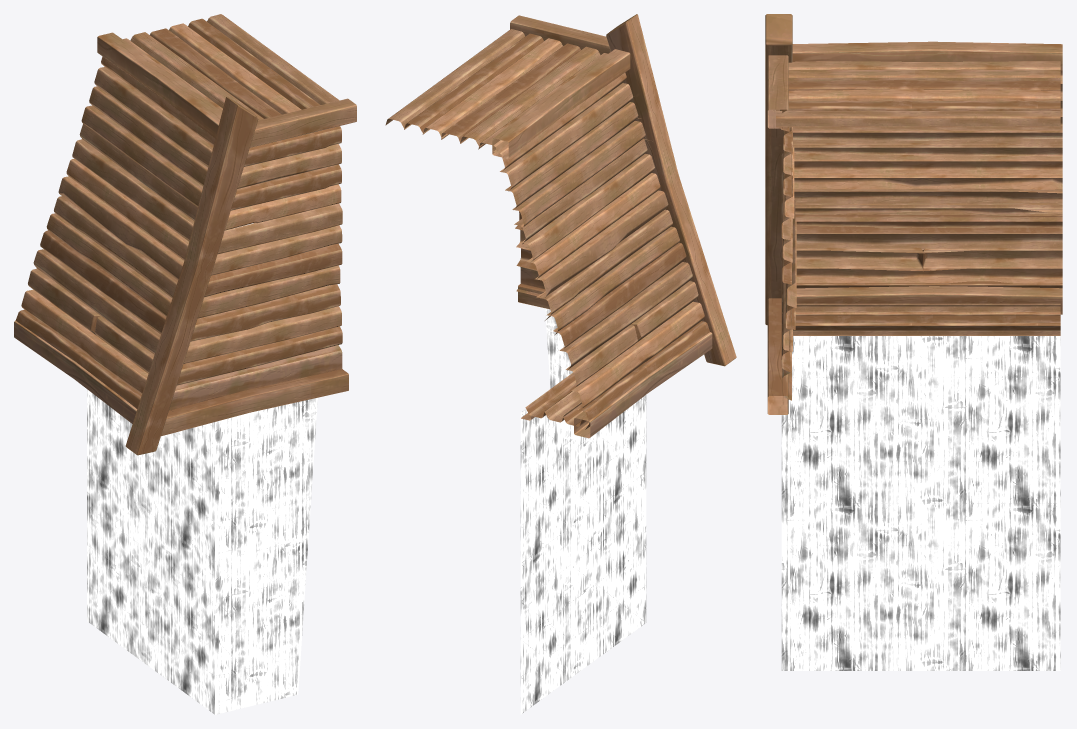
The model's file is SM_BuildingBase_05.fbx.
3 renders of one model, left to right at view 1: azimuth 30°, elevation 25°; view 2: azimuth 150°, elevation 25°; view 3: azimuth 270°, elevation 25°, orthographic. The views are drawn at different scales.
Parts seen in each view (by area): view 1: SM_BuildingBase_05_LOD0; view 2: SM_BuildingBase_05_LOD0; view 3: SM_BuildingBase_05_LOD0.
Boxes of the visible parts, x1,y1,x2,y2 form: SM_BuildingBase_05_LOD0: (14, 14, 356, 714); SM_BuildingBase_05_LOD0: (385, 14, 736, 714); SM_BuildingBase_05_LOD0: (765, 14, 1062, 670).
Size of the model in its own units: 402 by 427 by 1053.
Materials: 3 (3 with a texture image).
